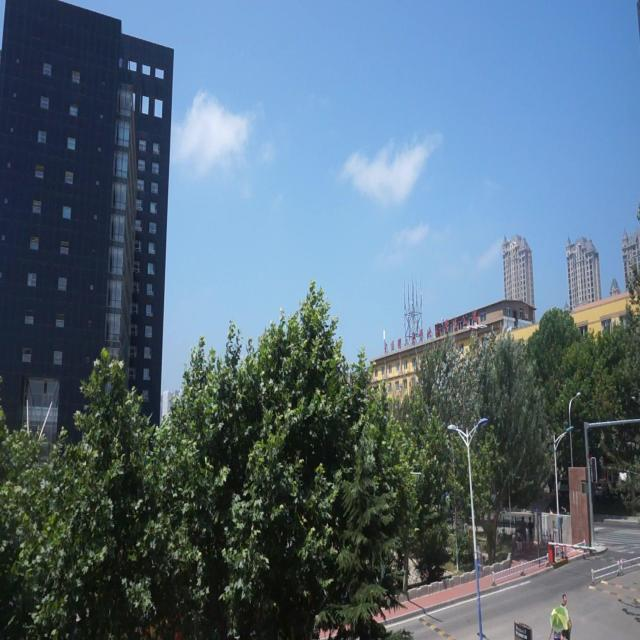drone: (616, 466, 632, 488)
